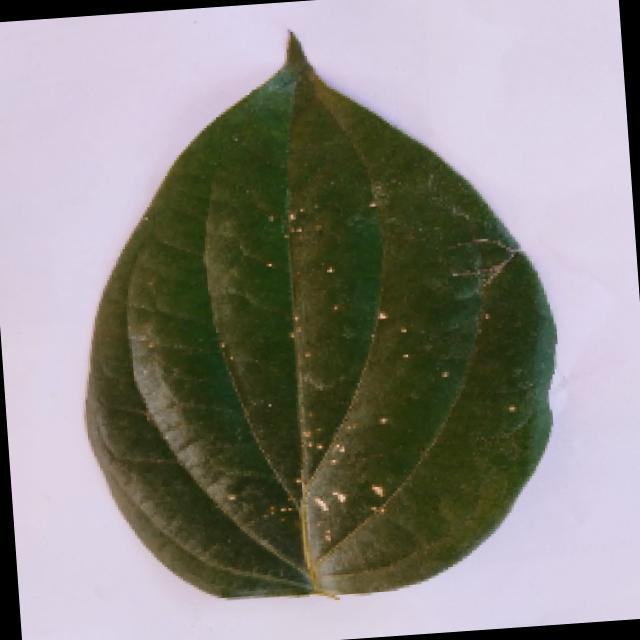pollu-disease: (41, 9, 586, 602)
